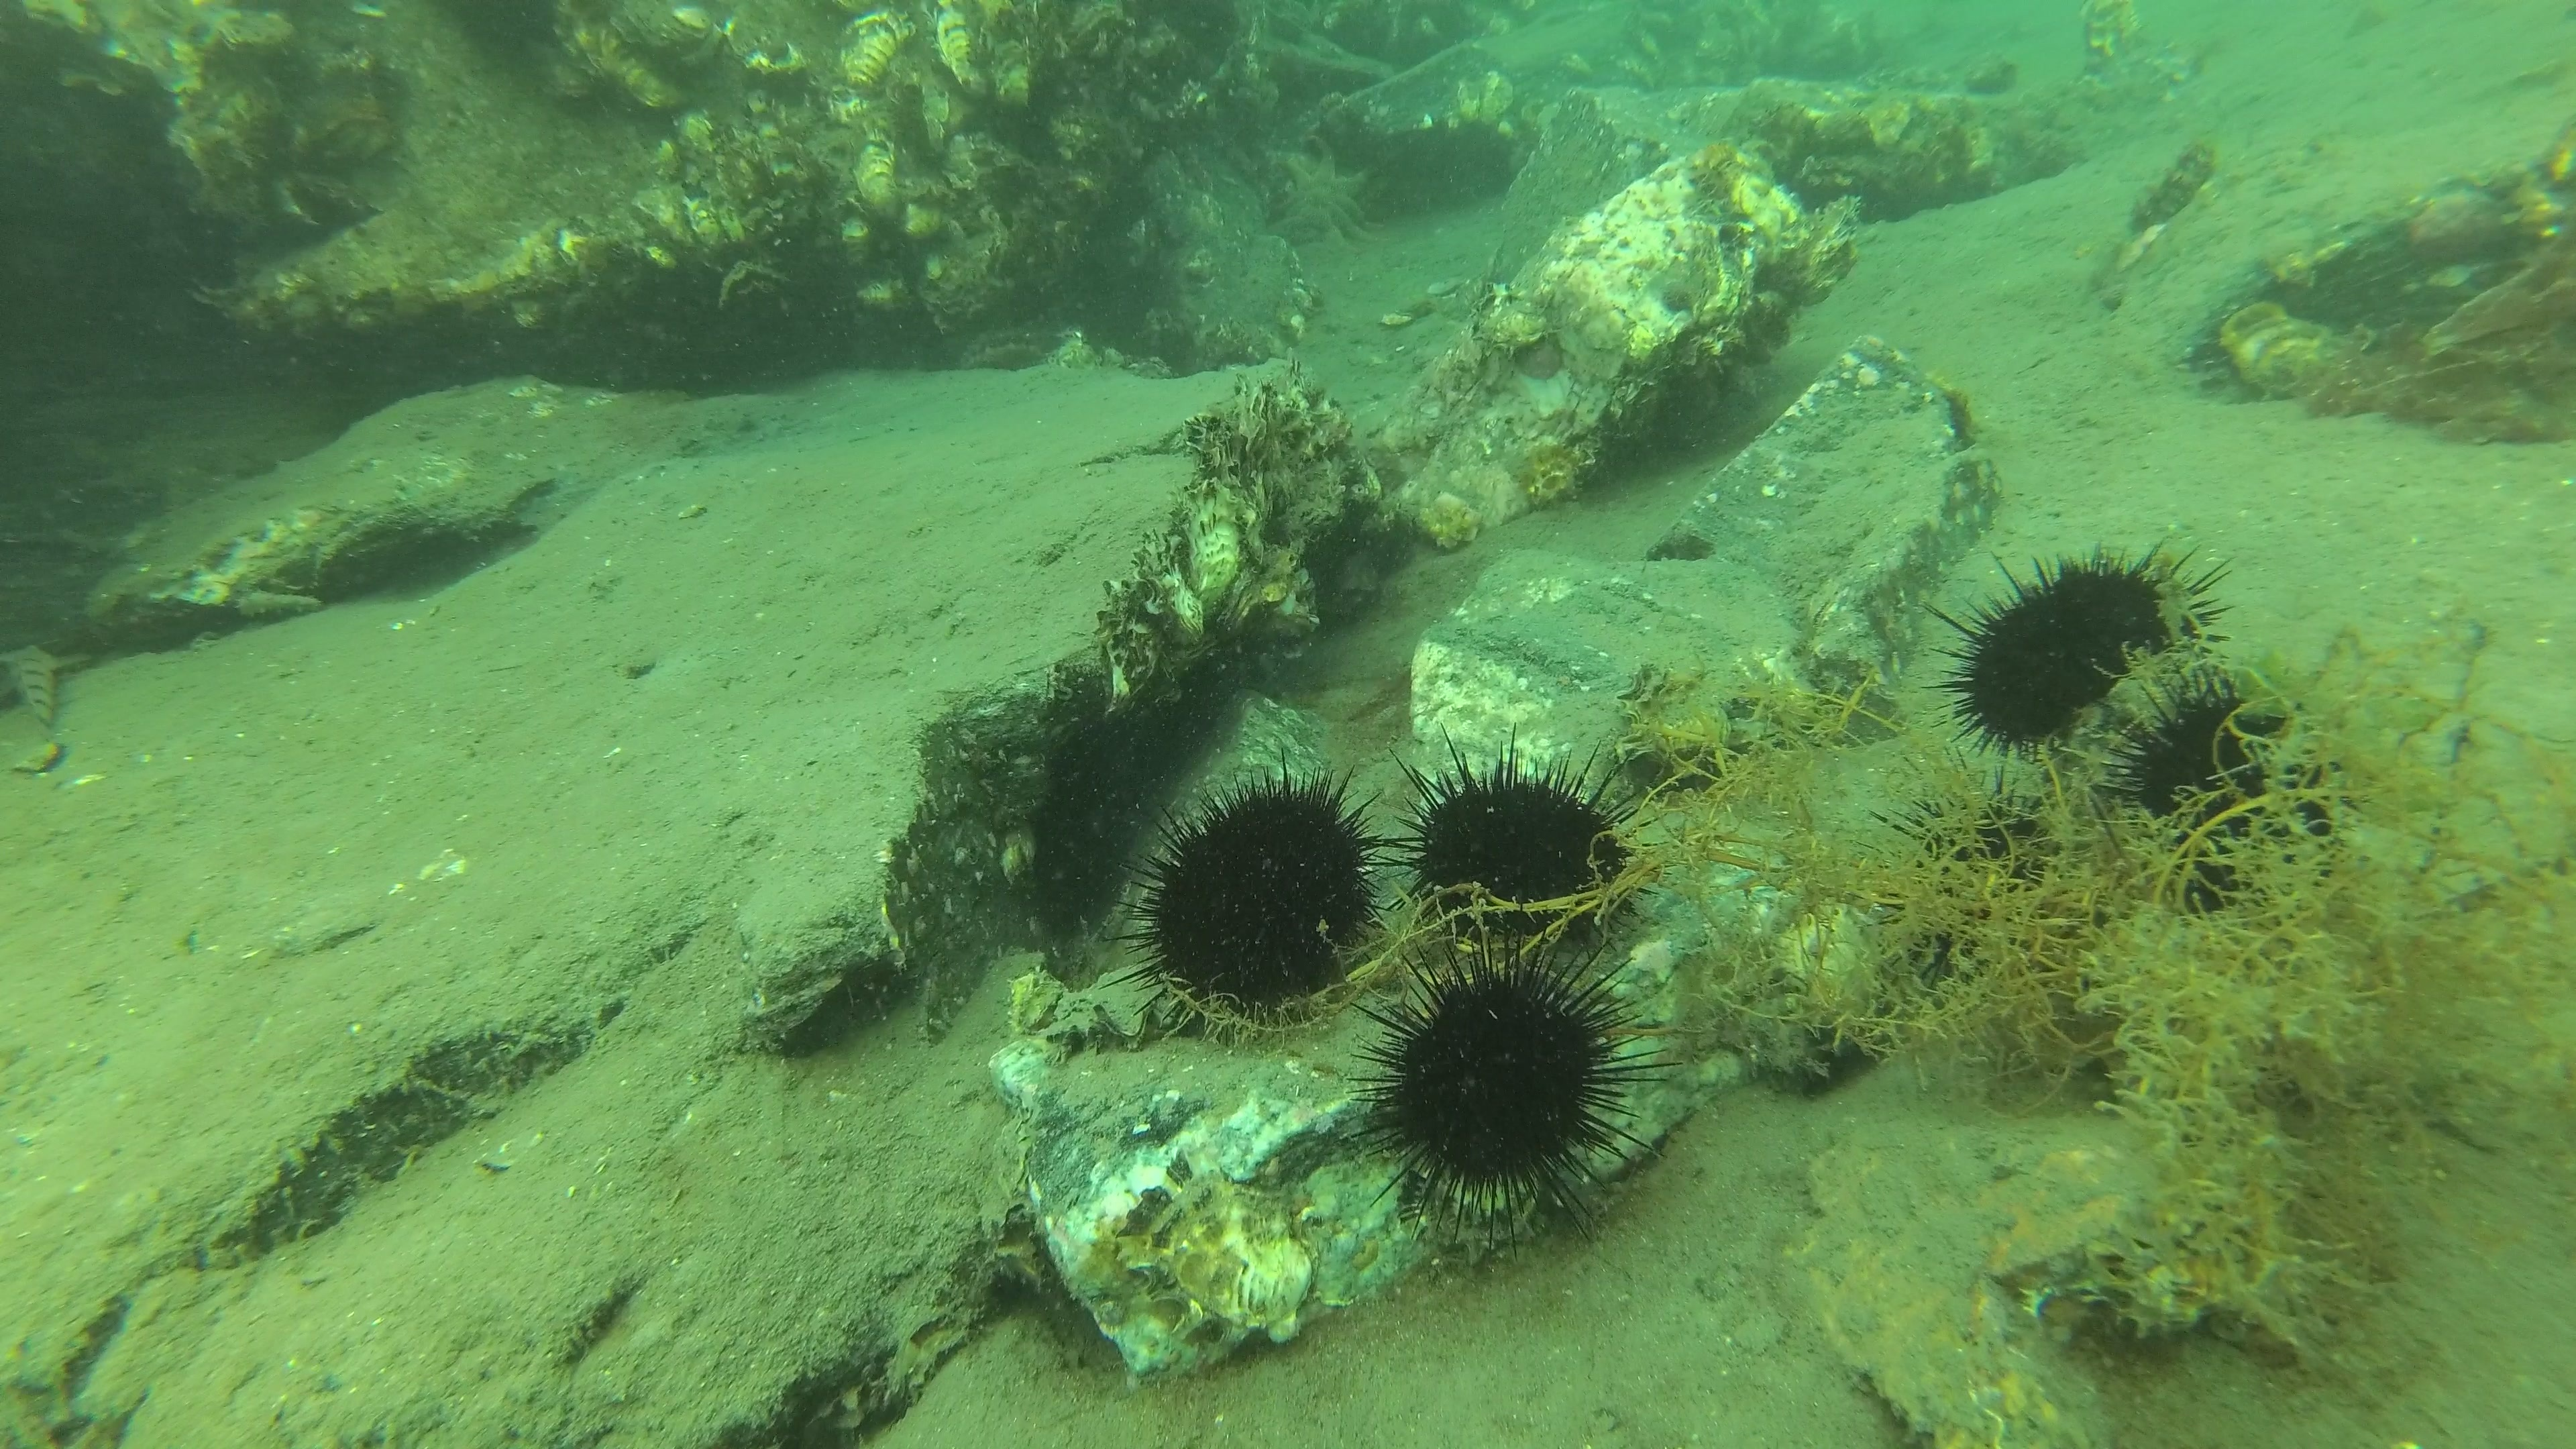echinus: (1338, 941, 1663, 1246), (1113, 764, 1405, 1031), (1925, 534, 2229, 771), (1385, 732, 1658, 968), (1882, 784, 2123, 996), (2100, 656, 2319, 862)
